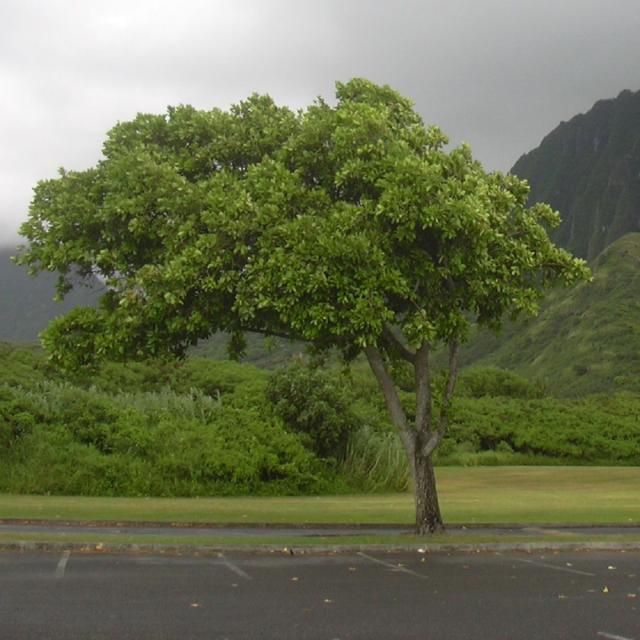Medicinal-Rose Apple: (24, 71, 597, 375), (259, 53, 562, 556)
